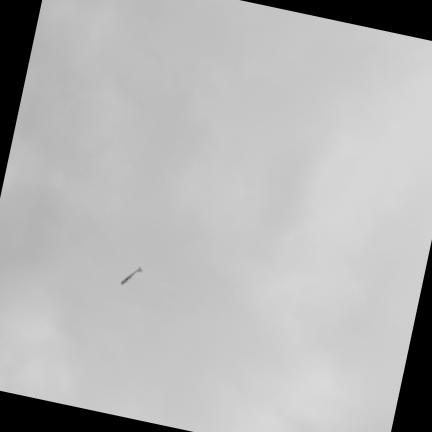Shahed: (120, 268, 141, 285)
